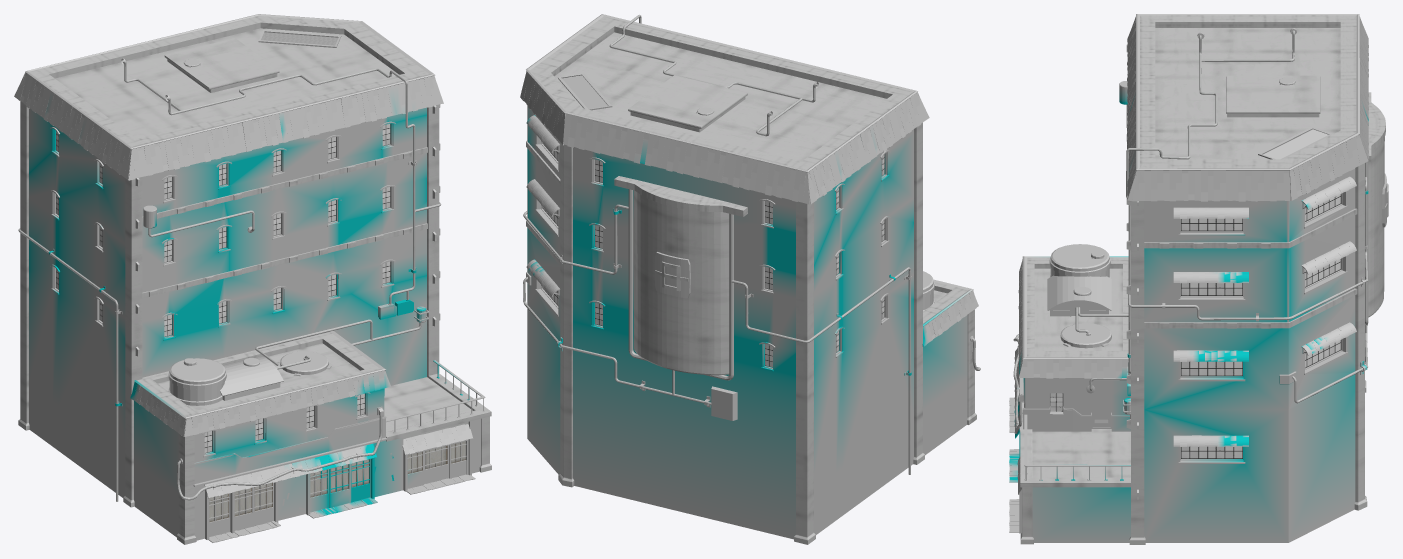
File: SM_ENV_KNVLLG_AreaD_Building_A.mo.fbx
3 renders of one model, left to right at view 1: azimuth 30°, elevation 25°; view 2: azimuth 150°, elevation 25°; view 3: azimuth 270°, elevation 25°, orthographic. The views are drawn at different scales.
Visible parts, largest first — view 1: SM_ENV_KNVLLG_AreaD_Building_A.mo; view 2: SM_ENV_KNVLLG_AreaD_Building_A.mo; view 3: SM_ENV_KNVLLG_AreaD_Building_A.mo.
Boxes of the visible parts, box(x1,y1,x2,y2) form: SM_ENV_KNVLLG_AreaD_Building_A.mo: box(14, 14, 491, 544); SM_ENV_KNVLLG_AreaD_Building_A.mo: box(520, 14, 980, 544); SM_ENV_KNVLLG_AreaD_Building_A.mo: box(1009, 14, 1388, 544).
Bounding box in the file's own units: 26.28 × 29.85 × 25.78.
